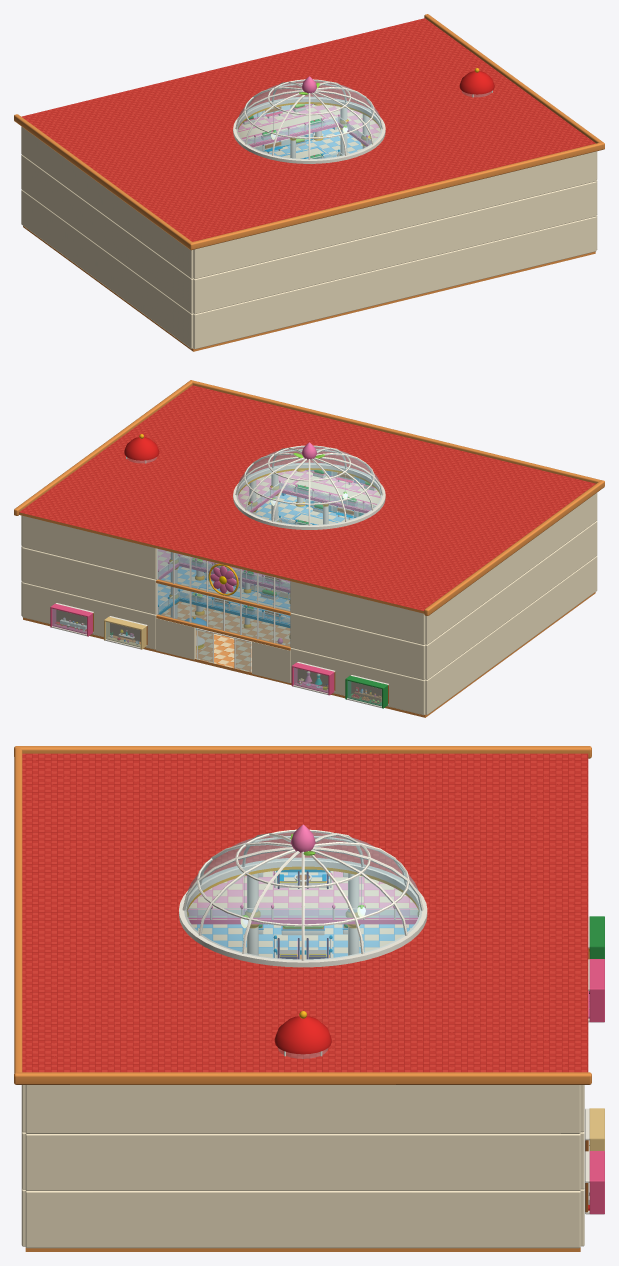
The model's file is grove_architecture.glb.
The picture shows the model from 3 angles, top to bottom: view 1: azimuth 30°, elevation 25°; view 2: azimuth 150°, elevation 25°; view 3: azimuth 270°, elevation 25°; orthographic projection. The views are drawn at different scales.
Parts seen in each view (by area): view 1: Mall_Roof, North_Wall_7.5, North_Wall_2.5, North_Wall_12.5, Mall_Dome, West_Wall_7.5, West_Wall_2.5, West_Wall_12.5, Mall_Floor_L3, Mall_Floor_L1, Mall_Floor_L2, Mall_Balustrade_L3 (+2 smaller); view 2: Mall_Roof, Mall_Entrance_Front, Mall_Dome, West_Wall_7.5, West_Wall_2.5, West_Wall_12.5, South_Wall_L_7.5, South_Wall_R_7.5, Mall_Floor_L1, South_Wall_L_12.5, South_Wall_R_12.5, Mall_Floor_L2 (+12 smaller); view 3: Mall_Roof, East_Wall_2.5, East_Wall_7.5, East_Wall_12.5, Mall_Dome, Mall_Floor_L3, Mall_Floor_L2, Mall_Floor_L1, Mall_Balustrade_L3, Mall_Lift_Tower, Fill_L2_West.
Part boxes in pixels (bbox=[...]): Mall_Roof: bbox=[14, 14, 604, 250]; North_Wall_7.5: bbox=[193, 181, 596, 314]; North_Wall_2.5: bbox=[193, 216, 596, 349]; North_Wall_12.5: bbox=[193, 151, 596, 278]; Mall_Dome: bbox=[233, 76, 385, 163]; West_Wall_7.5: bbox=[21, 155, 193, 313]; West_Wall_2.5: bbox=[21, 190, 193, 348]; West_Wall_12.5: bbox=[21, 126, 193, 278]; Mall_Floor_L3: bbox=[238, 104, 380, 147]; Mall_Floor_L1: bbox=[23, 226, 595, 351]; Mall_Floor_L2: bbox=[264, 127, 362, 158]; Mall_Balustrade_L3: bbox=[243, 104, 373, 145]; Mall_Roof: bbox=[14, 380, 604, 615]; Mall_Entrance_Front: bbox=[156, 548, 290, 682]; Mall_Dome: bbox=[233, 442, 385, 529]; West_Wall_7.5: bbox=[425, 521, 597, 679]; West_Wall_2.5: bbox=[425, 556, 597, 714]; West_Wall_12.5: bbox=[425, 493, 597, 644]; South_Wall_L_7.5: bbox=[290, 613, 425, 680]; South_Wall_R_7.5: bbox=[22, 547, 156, 614]; Mall_Floor_L1: bbox=[23, 581, 595, 717]; South_Wall_L_12.5: bbox=[290, 581, 425, 644]; South_Wall_R_12.5: bbox=[22, 515, 156, 579]; Mall_Floor_L2: bbox=[158, 493, 354, 627]; Mall_Roof: bbox=[14, 746, 591, 1084]; East_Wall_2.5: bbox=[25, 1191, 580, 1248]; East_Wall_7.5: bbox=[25, 1133, 580, 1190]; East_Wall_12.5: bbox=[25, 1085, 580, 1133]; Mall_Dome: bbox=[179, 824, 427, 967]; Mall_Floor_L3: bbox=[188, 871, 418, 924]; Mall_Floor_L2: bbox=[192, 872, 414, 957]; Mall_Floor_L1: bbox=[25, 954, 580, 1251]; Mall_Balustrade_L3: bbox=[187, 871, 418, 919]; Mall_Lift_Tower: bbox=[274, 1011, 331, 1058]; Fill_L2_West: bbox=[258, 875, 347, 935].
Size of the model in its own units: 61.84 by 23.45 by 46.84.
38 materials, 6 textured.
